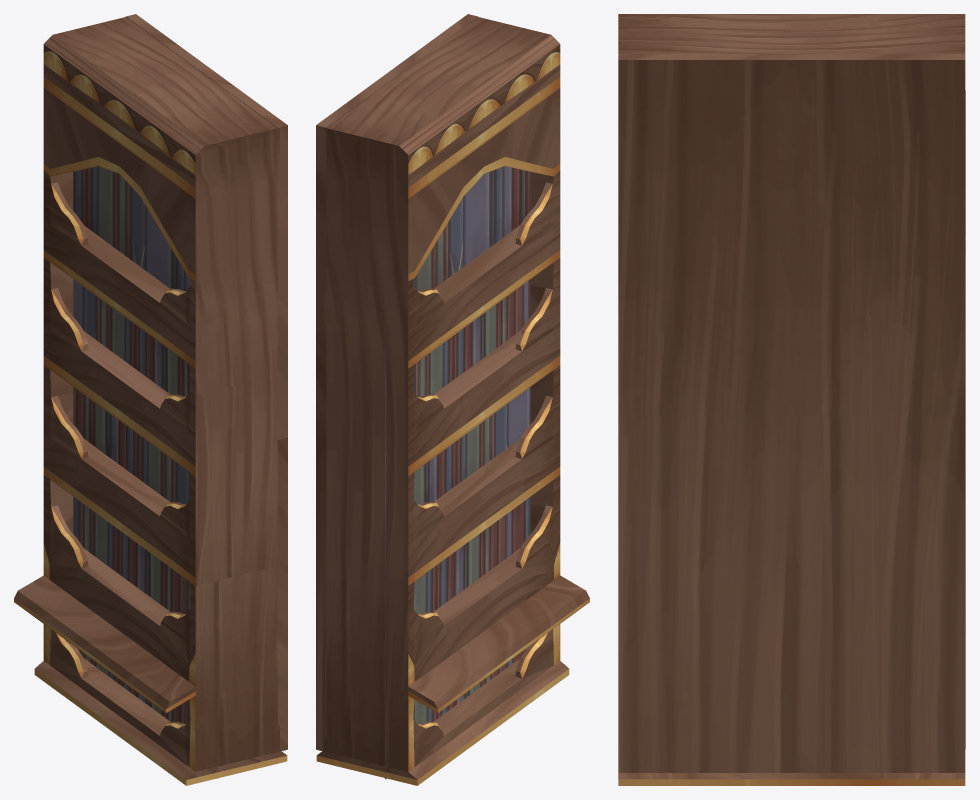
Rendered from A_Bookcase (3) 1.fbx.
3 renders of one model, left to right at view 1: azimuth 30°, elevation 25°; view 2: azimuth 150°, elevation 25°; view 3: azimuth 270°, elevation 25°, orthographic. The views are drawn at different scales.
Visible parts, largest first — view 1: Merged.003; view 2: Merged.003; view 3: Merged.003.
Part boxes in pixels (bbox=[...]): Merged.003: bbox=[14, 14, 287, 785]; Merged.003: bbox=[316, 14, 589, 785]; Merged.003: bbox=[618, 14, 965, 785].
Size of the model in its own units: 60.23 by 301 by 130.
